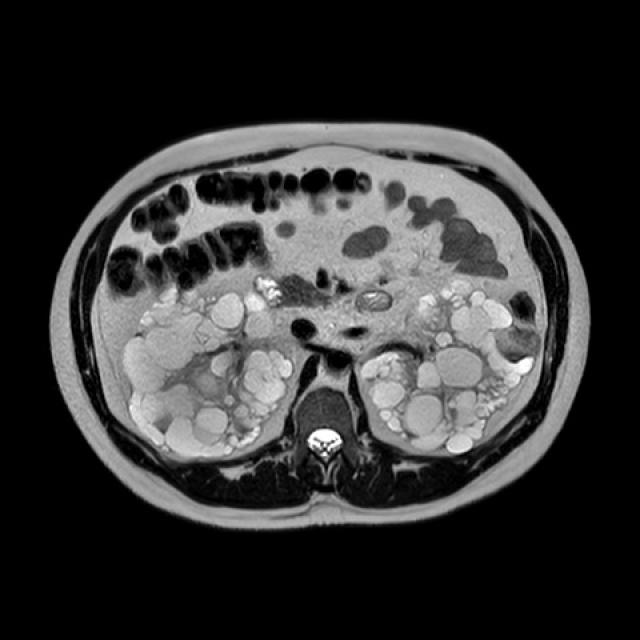sag: (122, 287, 298, 459)
sol: (363, 276, 543, 455)
